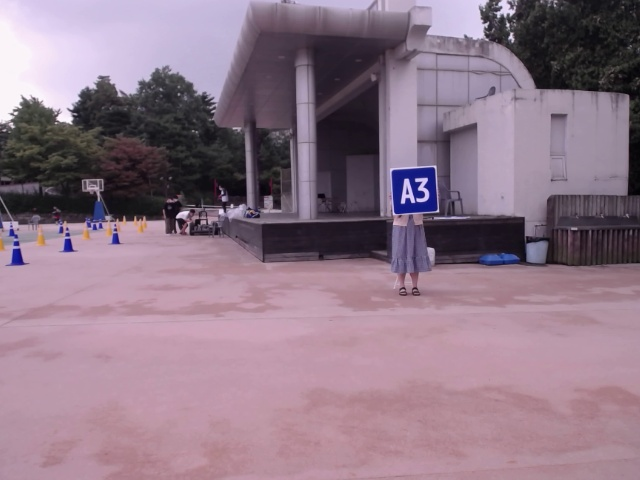delivery_a3: (391, 167, 439, 215)
